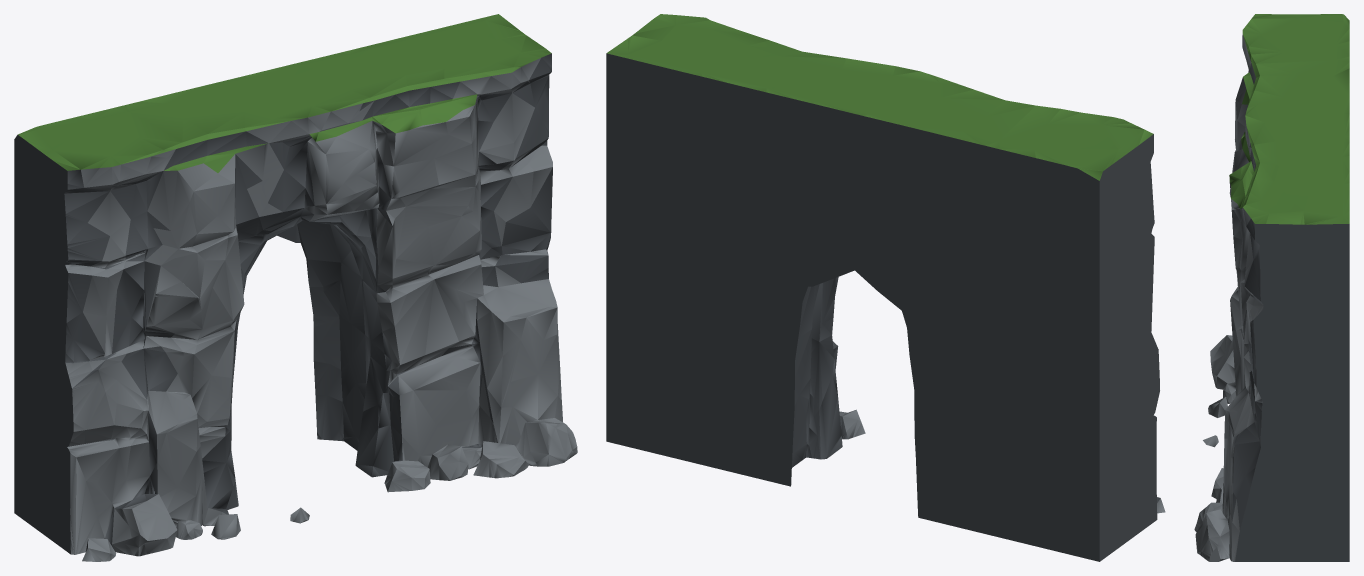
File: mdvl_nature_cave_01.fbx
3 renders of one model, left to right at view 1: azimuth 30°, elevation 25°; view 2: azimuth 150°, elevation 25°; view 3: azimuth 270°, elevation 25°, orthographic. The views are drawn at different scales.
Visible parts, largest first — view 1: mdvl_nature_cave_01; view 2: mdvl_nature_cave_01; view 3: mdvl_nature_cave_01.
Part boxes in pixels (x1=…): mdvl_nature_cave_01: x1=14, y1=14, x2=577, y2=561; mdvl_nature_cave_01: x1=606, y1=14, x2=1165, y2=561; mdvl_nature_cave_01: x1=1194, y1=14, x2=1349, y2=561.
Bounding box in the file's own units: 4 × 3.01 × 1.25.
